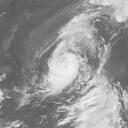cyclone: (38, 50, 80, 100)
